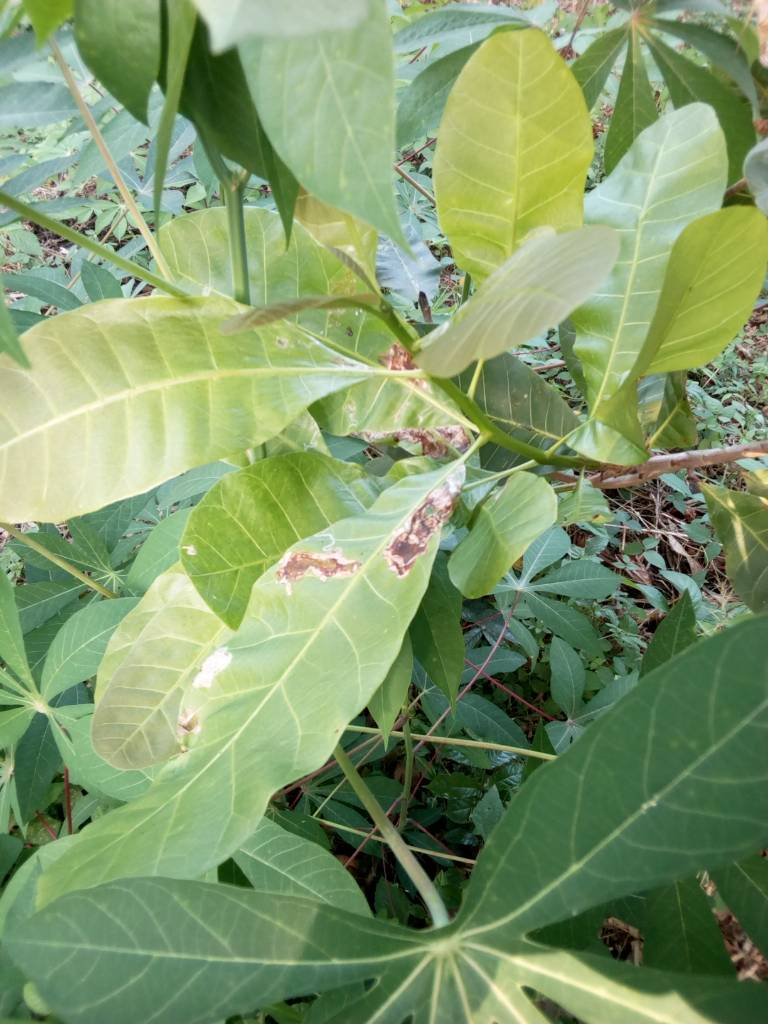Dysdercus wolkerii: (37, 443, 531, 921)
